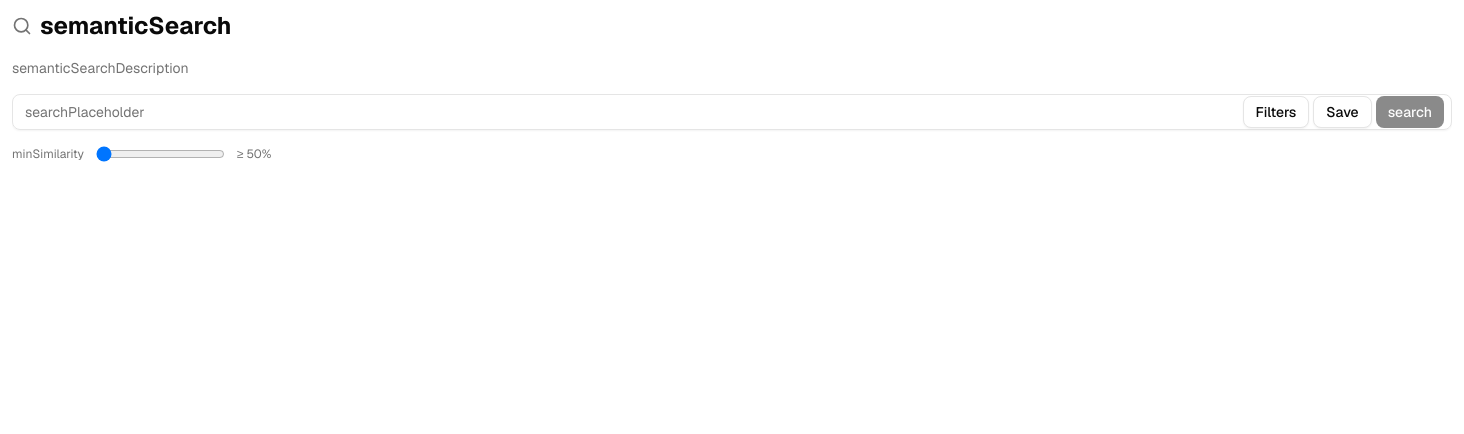
SearchBar › Search Results Display › displays persona in results when present
Step 1. Type "test" into the field with placeholder "searchPlaceholder" → {"x": 732, "y": 112}, box [12,94,1452,130]
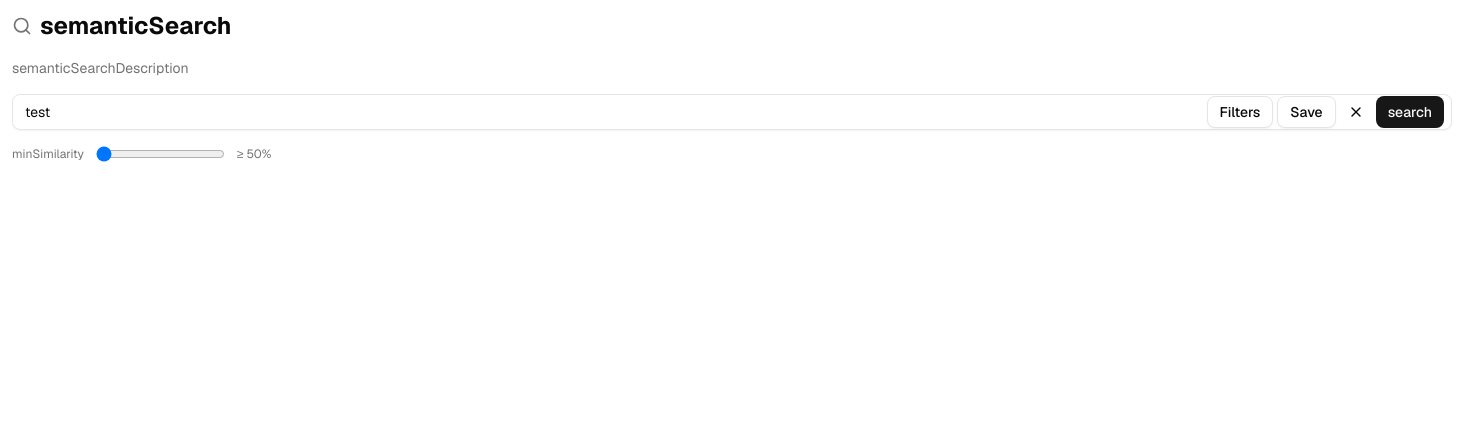
Step 2. Submit the form with placeholder "searchPlaceholder", box [12,94,1452,130]
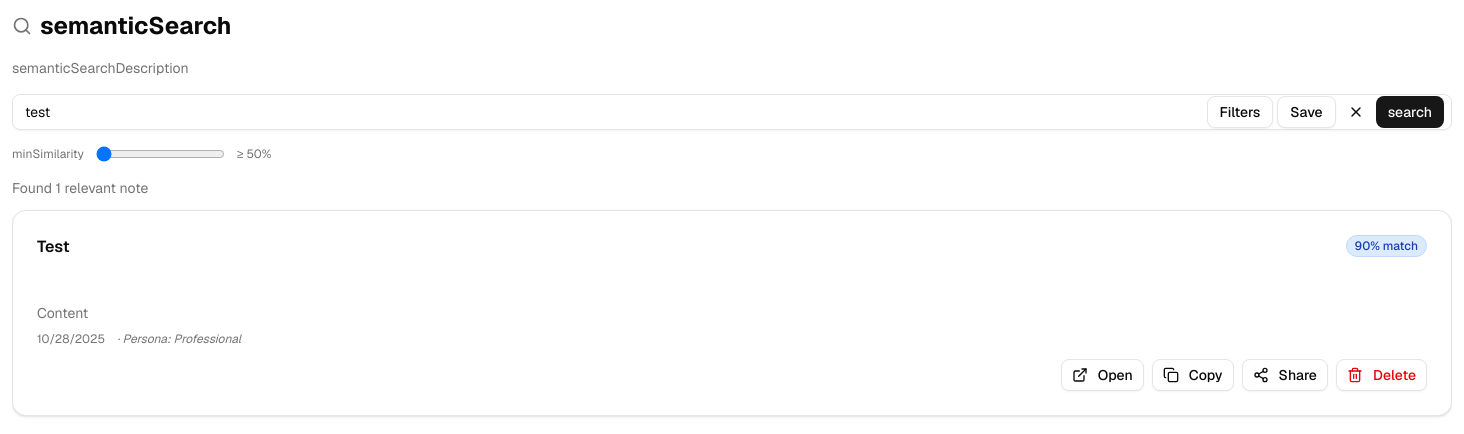
Now the text "· Persona: Professional" is shown, box [117,331,241,347]
